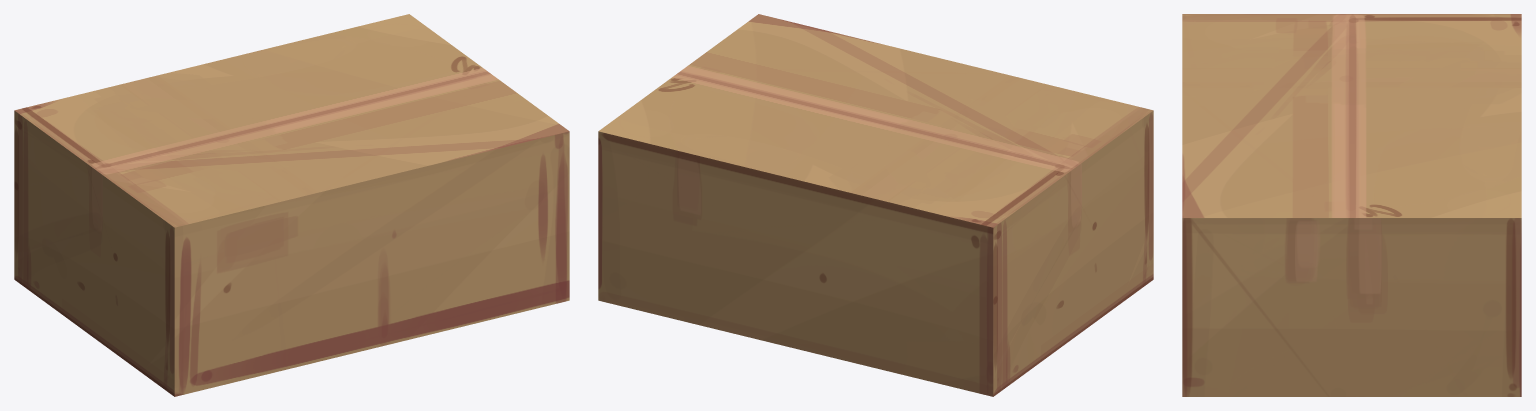
3 renders of one model, left to right at view 1: azimuth 30°, elevation 25°; view 2: azimuth 150°, elevation 25°; view 3: azimuth 270°, elevation 25°, orthographic. The views are drawn at different scales.
Visible parts, largest first — view 1: Box_02_collision; view 2: Box_02_collision; view 3: Box_02_collision.
Boxes of the visible parts, x1=… form: Box_02_collision: x1=14, y1=14, x2=569, y2=396; Box_02_collision: x1=598, y1=14, x2=1153, y2=396; Box_02_collision: x1=1182, y1=14, x2=1521, y2=396.
Bounding box in the file's own units: 1.88 × 0.7683 × 1.32.
